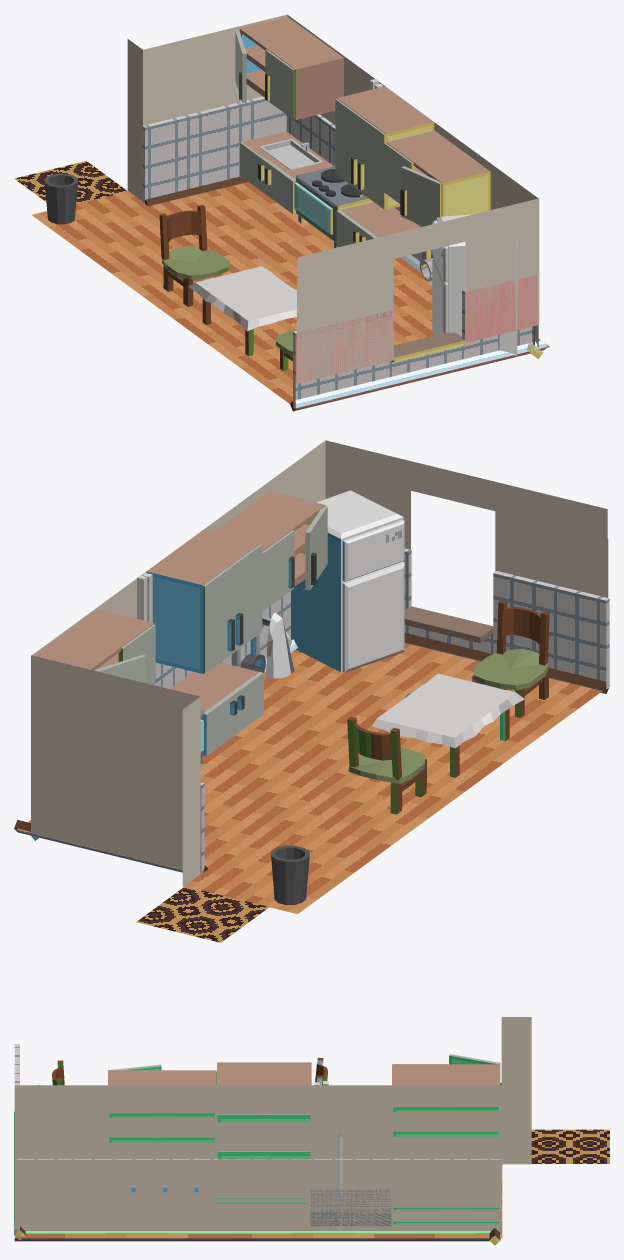
The model's file is kitchen.gltf.
The picture shows the model from 3 angles, top to bottom: view 1: azimuth 30°, elevation 25°; view 2: azimuth 150°, elevation 25°; view 3: azimuth 270°, elevation 25°; orthographic projection. The views are drawn at different scales.
Visible parts, largest first — view 1: wall (×8), kitchen upper counter, cuboid-col (×3), plane, cuboid, mesh (×2), fridge, stove, cylinder-col, mesh-col; view 2: wall (×7), cuboid-col (×3), kitchen upper counter, fridge, cuboid (×2), plane (×2), mesh-col, mesh (×2), cylinder-col; view 3: wall (×3), kitchen upper counter, cuboid-col (×2), mesh, stove.
Part boxes in pixels (x1=…): wall (×8): x1=127, y1=14, x2=539, y2=409; kitchen upper counter: x1=235, y1=17, x2=490, y2=247; cuboid-col (×3): x1=14, y1=161, x2=549, y2=408; plane: x1=188, y1=266, x2=296, y2=331; cuboid: x1=159, y1=204, x2=229, y2=306; mesh (×2): x1=145, y1=176, x2=546, y2=411; fridge: x1=432, y1=214, x2=517, y2=355; stove: x1=294, y1=166, x2=373, y2=247; cylinder-col: x1=44, y1=173, x2=77, y2=224; mesh-col: x1=432, y1=258, x2=448, y2=335; wall (×7): x1=31, y1=440, x2=609, y2=886; cuboid-col (×3): x1=17, y1=606, x2=601, y2=942; kitchen upper counter: x1=34, y1=491, x2=327, y2=755; fridge: x1=291, y1=490, x2=404, y2=672; cuboid (×2): x1=347, y1=600, x2=549, y2=814; plane (×2): x1=265, y1=612, x2=524, y2=748; mesh-col: x1=342, y1=562, x2=404, y2=672; mesh (×2): x1=14, y1=632, x2=609, y2=873; cylinder-col: x1=271, y1=845, x2=309, y2=904; wall (×3): x1=14, y1=1017, x2=531, y2=1232; kitchen upper counter: x1=108, y1=1054, x2=500, y2=1224; cuboid-col (×2): x1=15, y1=1129, x2=609, y2=1238; mesh: x1=14, y1=1231, x2=490, y2=1241; stove: x1=310, y1=1189, x2=391, y2=1226.
Size of what is drawn, in the model's own units: 0.8125 by 0.4005 by 1.38.
1 material, 1 textured.
